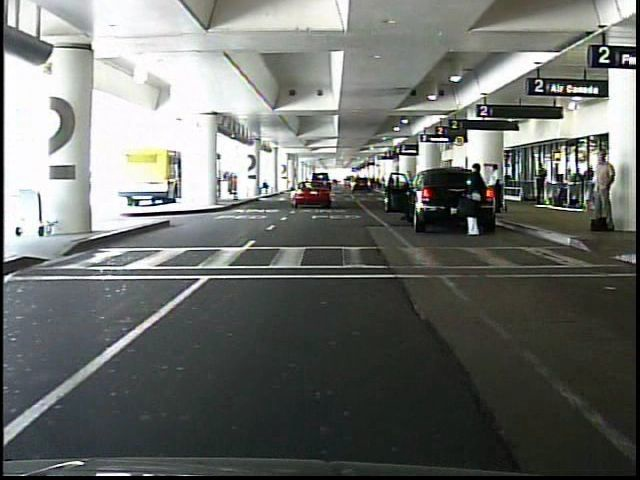person: (463, 164, 486, 240), (485, 163, 504, 215), (534, 162, 547, 204)
